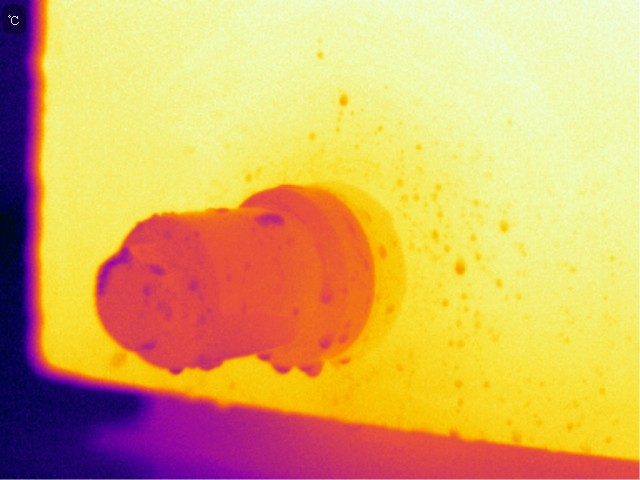Water: (333, 90, 369, 119), (248, 207, 288, 231), (312, 330, 355, 350), (192, 355, 227, 378), (297, 358, 327, 383), (147, 259, 173, 278), (164, 362, 188, 382), (315, 286, 336, 308), (450, 256, 470, 277), (155, 302, 174, 324), (373, 242, 392, 264), (272, 361, 294, 379), (211, 201, 231, 219), (252, 348, 274, 364), (138, 337, 158, 351), (341, 355, 358, 371), (184, 276, 200, 289), (498, 219, 510, 235), (313, 49, 324, 61)
